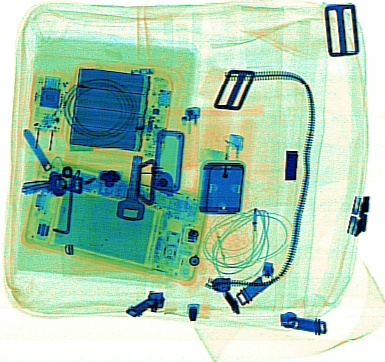lighter: (211, 128, 244, 206)
powerbank: (62, 61, 173, 158)
